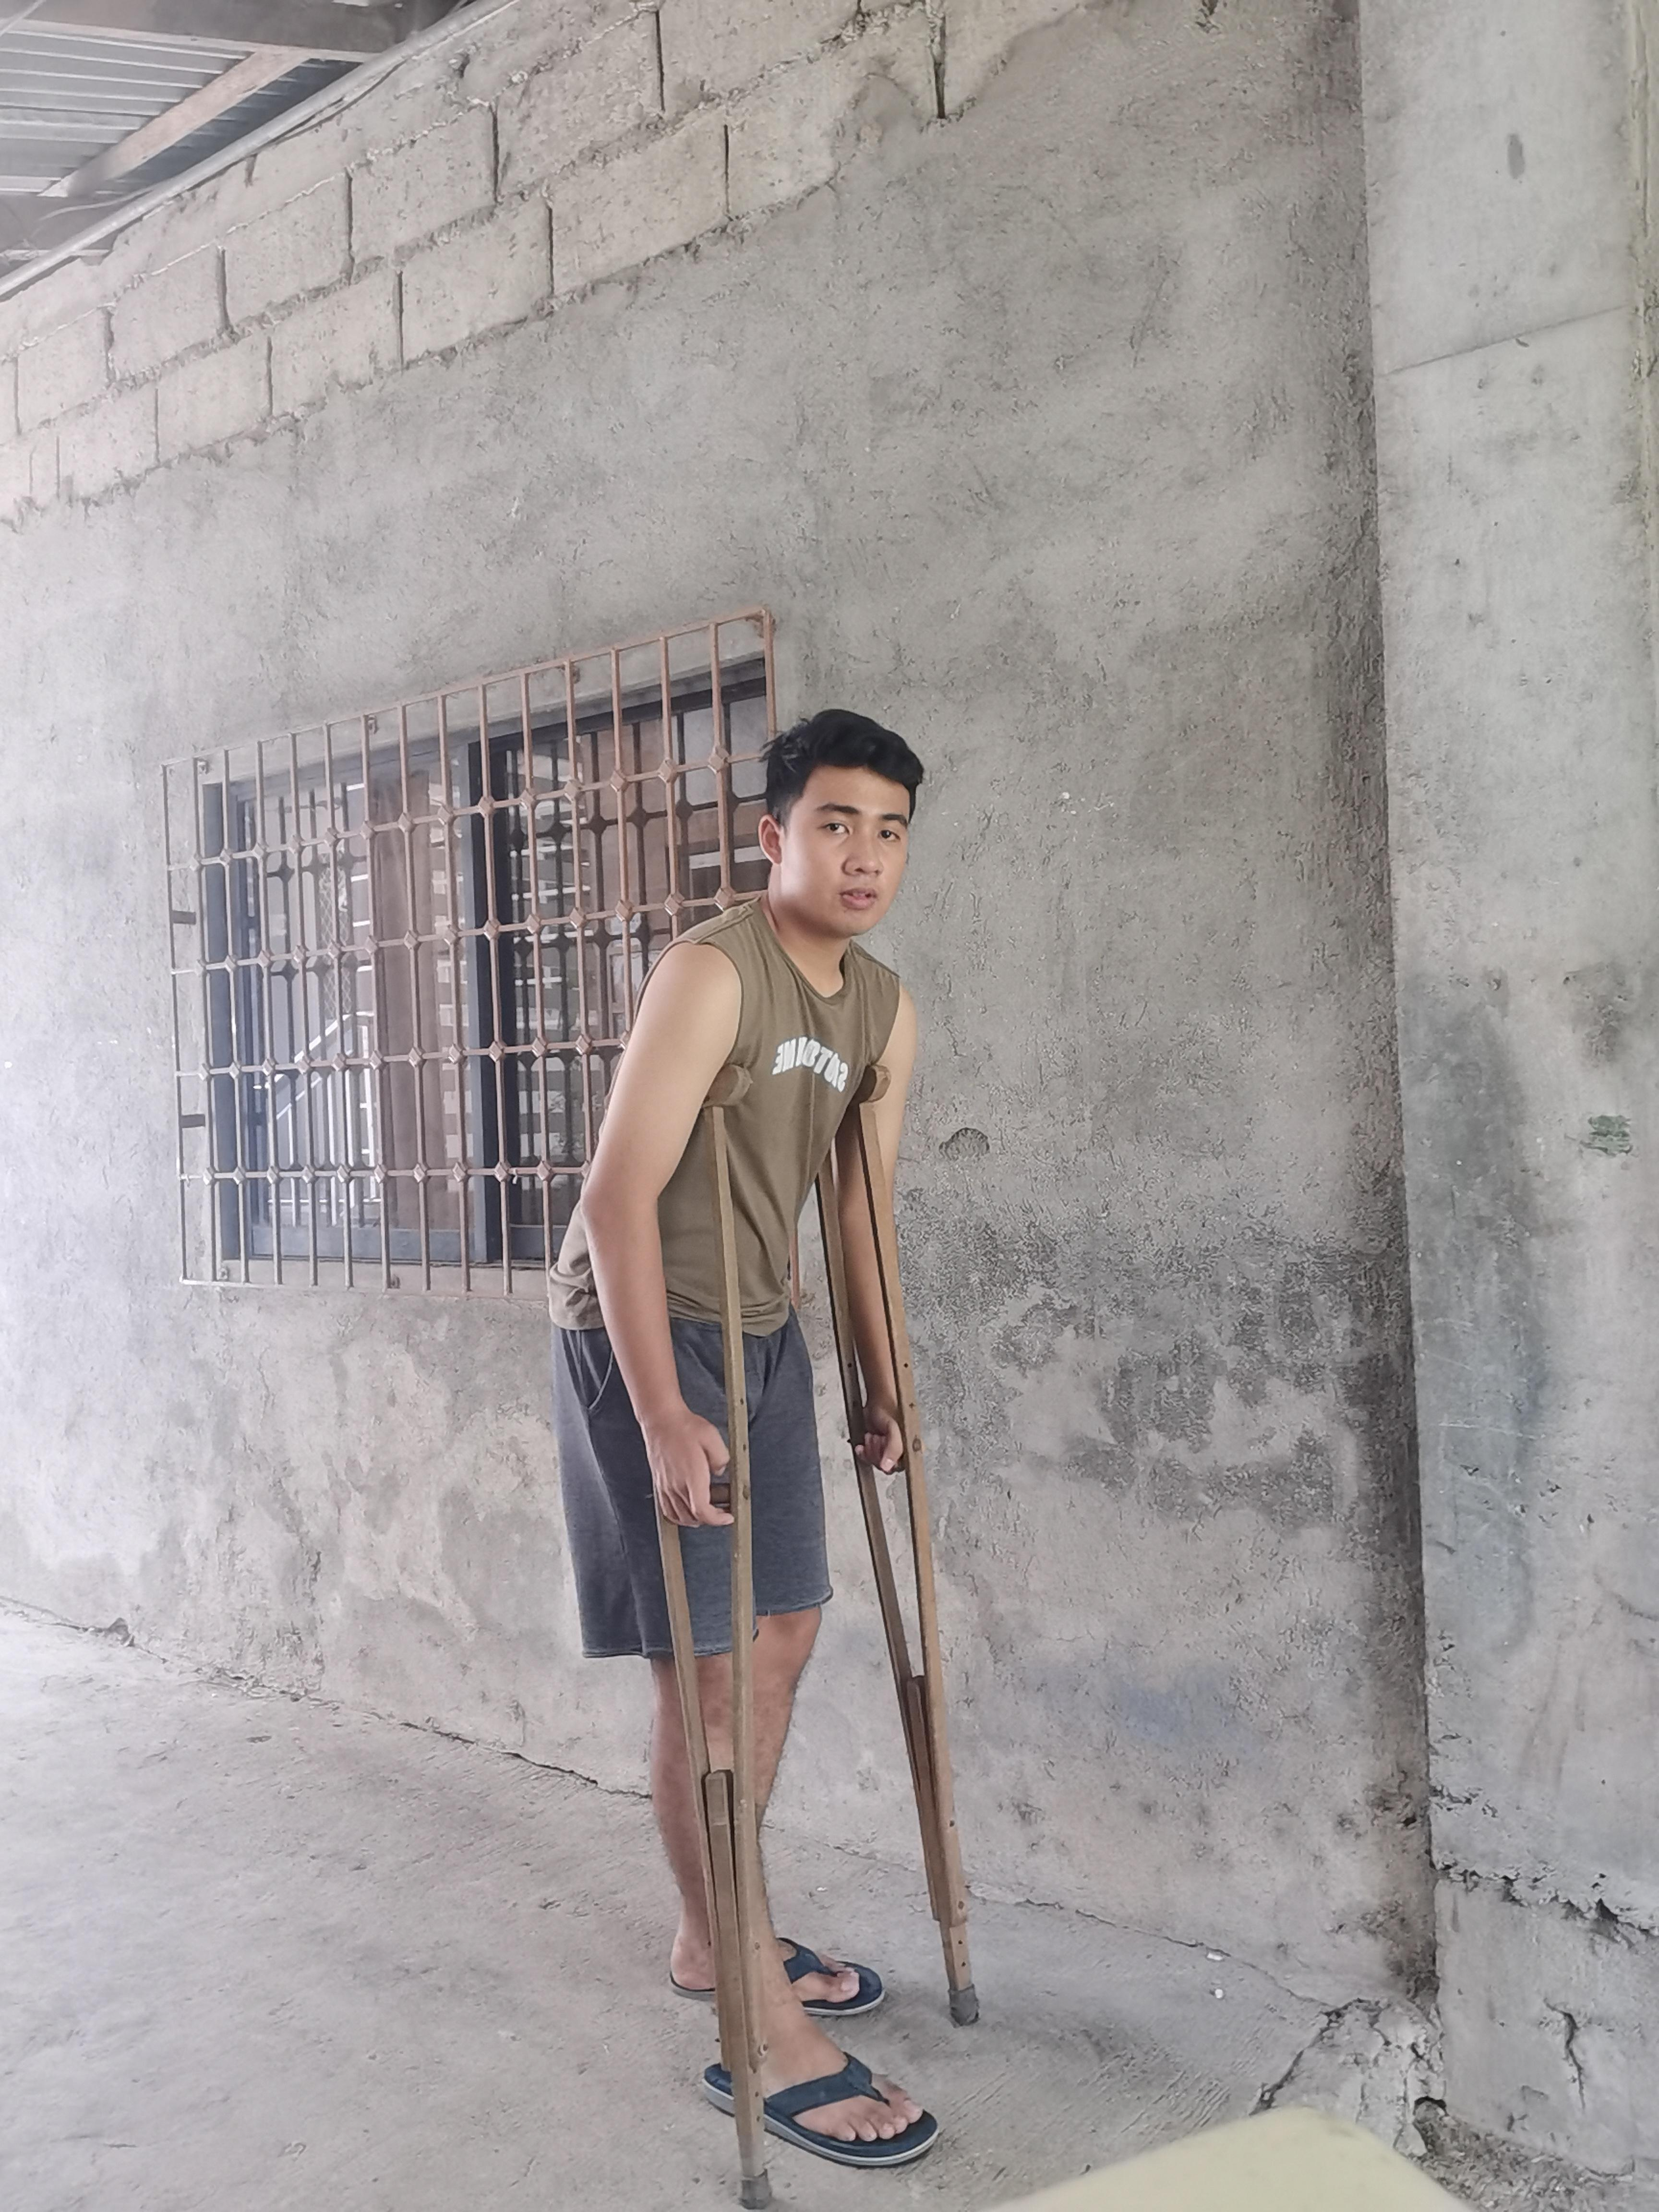crutches: (533, 691, 993, 2212)
